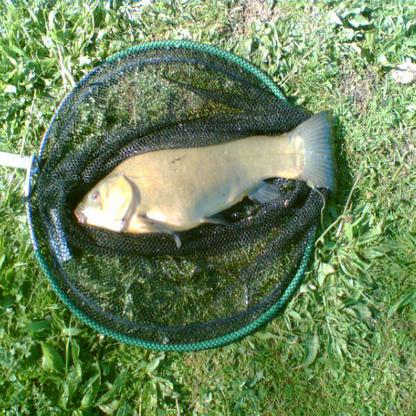fish: (74, 105, 342, 247)
